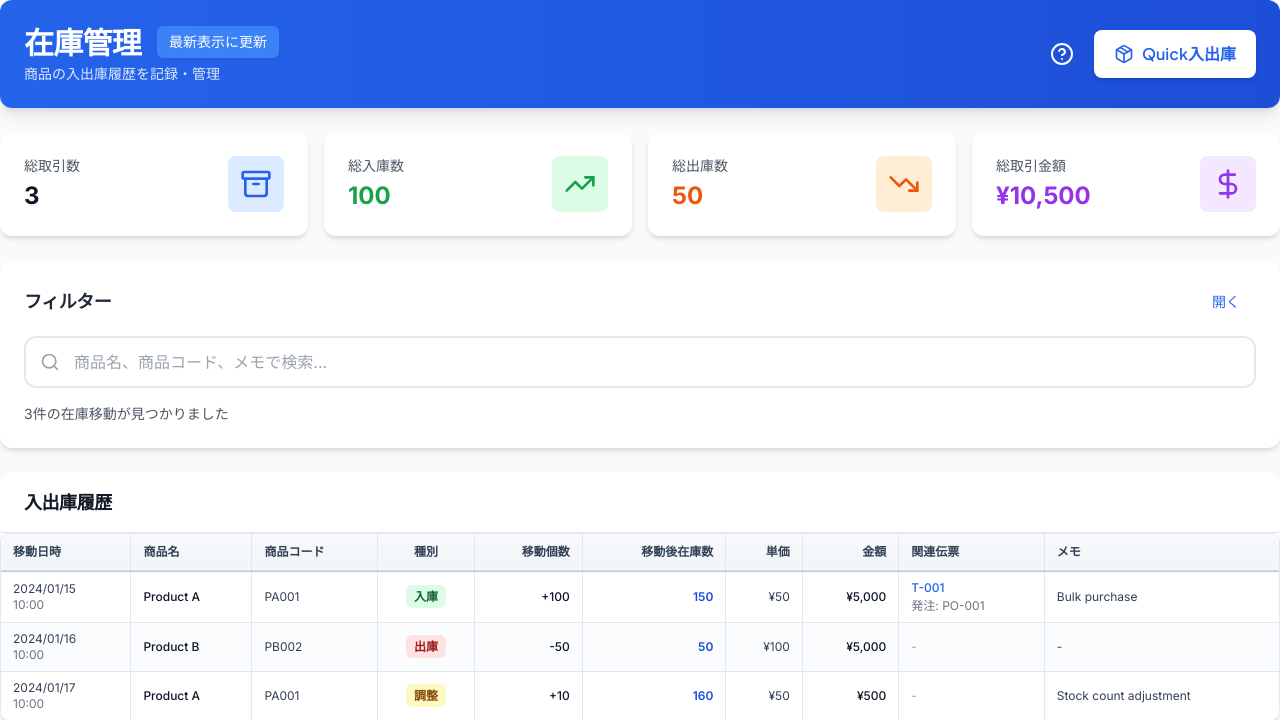
Test: Inventory › Filters › should expand filters when 開く button is clicked
expect the heading "フィルター" is shown: met, box x1=24 y1=288 x2=111 y2=316
Click the button "開く".
click(1226, 302)  # box x1=1196 y1=284 x2=1256 y2=320
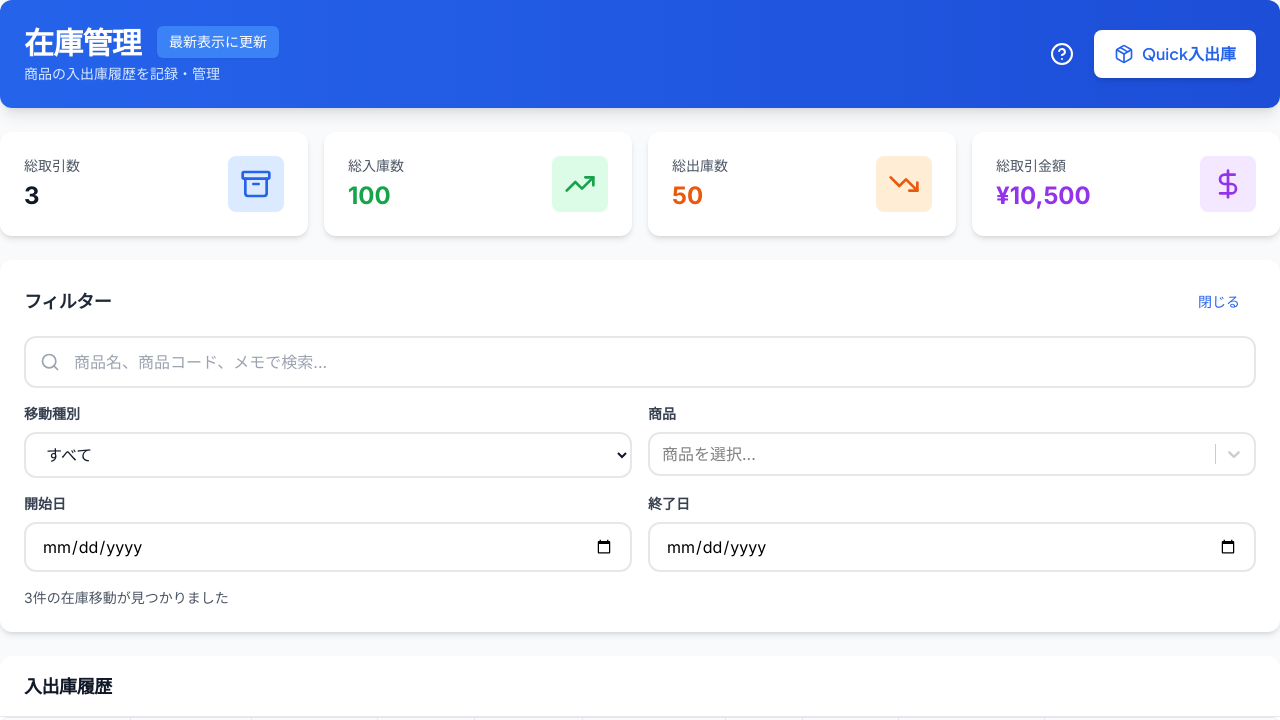
expect the text "移動種別" is shown: met, box x1=24 y1=405 x2=80 y2=422
expect the text "開始日" is shown: met, box x1=24 y1=495 x2=66 y2=512
expect the text "終了日" is shown: met, box x1=648 y1=495 x2=690 y2=512
